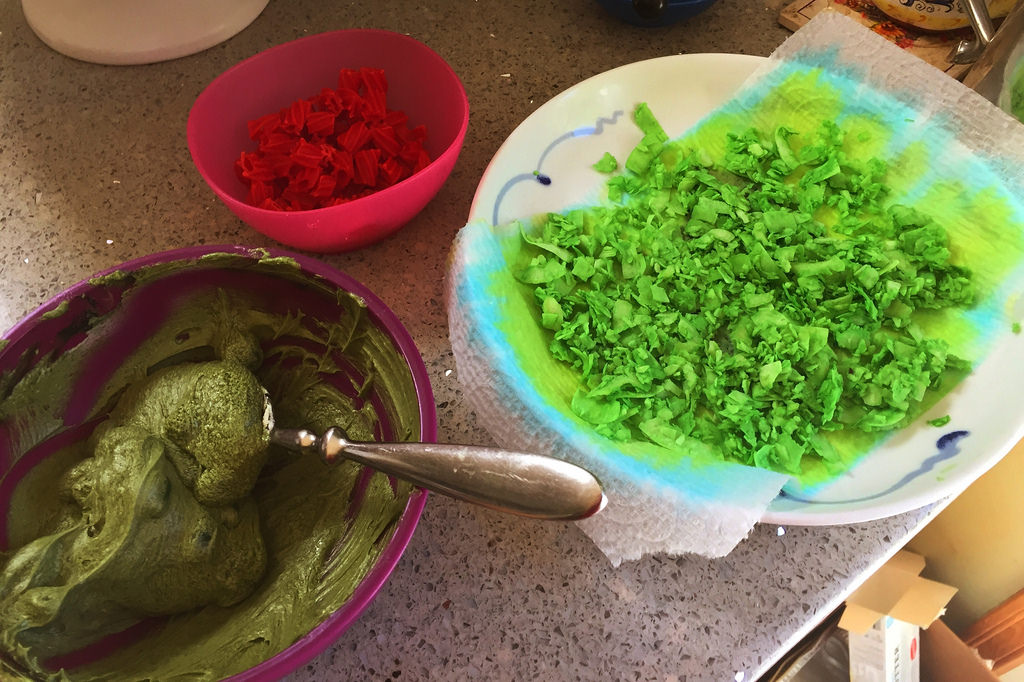chopped lettuce: (640, 166, 868, 418)
